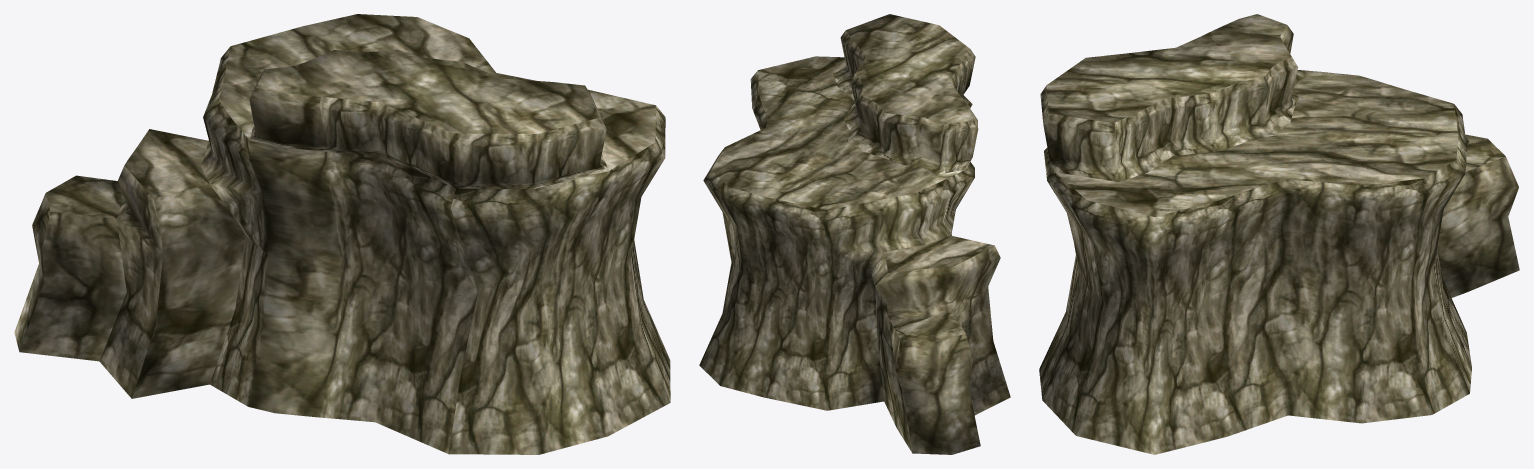
The model's file is CB_NEWPLAYSURFACE_CB_PLAYSURFACE02.fbx.
3 renders of one model, left to right at view 1: azimuth 30°, elevation 25°; view 2: azimuth 150°, elevation 25°; view 3: azimuth 270°, elevation 25°, orthographic. The views are drawn at different scales.
Parts seen in each view (by area): view 1: CB_NEWPLAYSURFACE_CB_PLAYSURFACE02; view 2: CB_NEWPLAYSURFACE_CB_PLAYSURFACE02; view 3: CB_NEWPLAYSURFACE_CB_PLAYSURFACE02.
Part boxes in pixels (bbox=[...]): CB_NEWPLAYSURFACE_CB_PLAYSURFACE02: bbox=[14, 14, 670, 454]; CB_NEWPLAYSURFACE_CB_PLAYSURFACE02: bbox=[699, 14, 1010, 454]; CB_NEWPLAYSURFACE_CB_PLAYSURFACE02: bbox=[1039, 14, 1519, 454].
Size of the model in its own units: 133312 by 84294 by 128892.
Materials: 2 (2 with a texture image).
